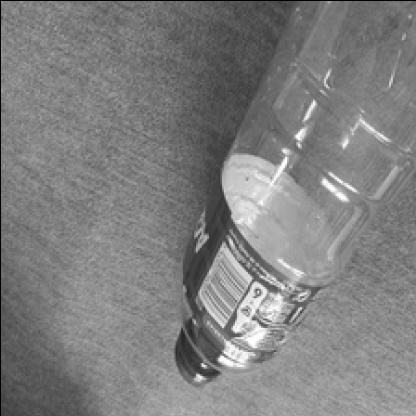plastic_bottles: (171, 4, 412, 388)
